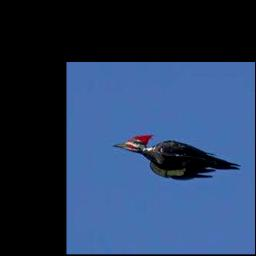Woodpecker: (113, 134, 241, 179)
